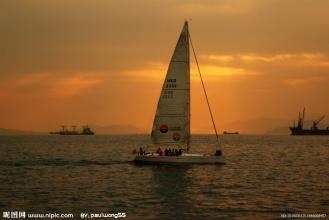fanchuan: (127, 21, 227, 167)
otherboat: (288, 103, 329, 136), (48, 122, 95, 137)
